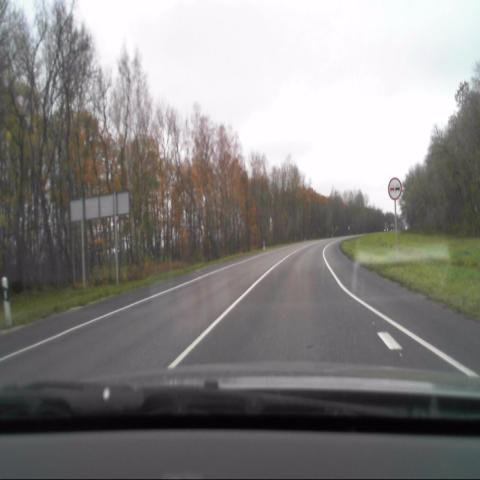3_20: (388, 176, 401, 200)
